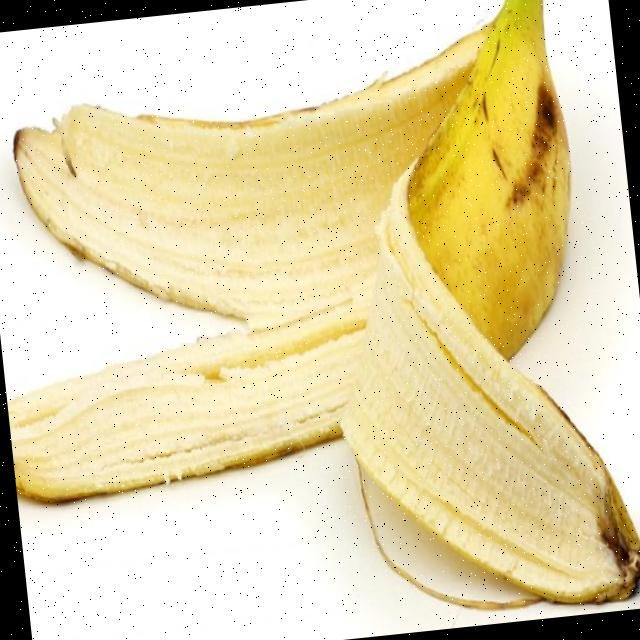banana-peel: (0, 0, 640, 640), (293, 0, 640, 628), (1, 12, 524, 351), (0, 292, 386, 506)
